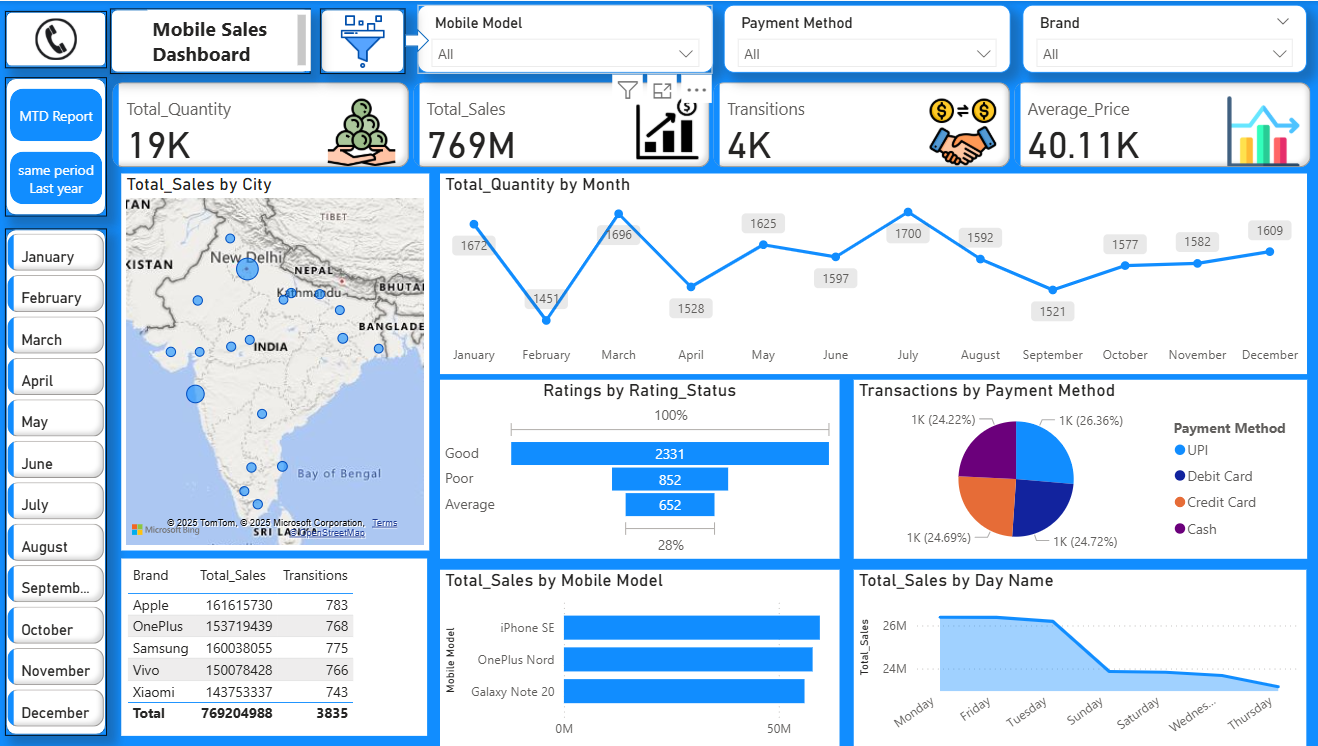

The dashboard page shown, as its layout file describes it:
{"tool":"powerbi","page":{"name":"Dashboard","canvas":[1280,720],"ordinal":0},"visuals":[{"type":"shape","box":[9.6,9.6,98.8,54.9],"z":0},{"type":"shape","box":[9.6,74.1,98.8,134.5],"z":1000},{"type":"shape","box":[9.6,219.6,98.8,489.9],"z":2000},{"type":"advancedSlicerVisual","fields":{"Values":["Custom_Calendar.Date.Variation.Date Hierarchy.Month"]},"box":[7.2,219.6,103.8,489.8],"z":3000},{"type":"cardVisual","fields":{"Data":["Sales_Data.Total_Quantity","Sales_Data.Total_Sales","Sales_Data.Transitions","Sales_Data.Average_Price"]},"box":[108.6,73.6,1169,92.9],"z":4000},{"type":"slicer","fields":{"Values":["Sales_Data.Mobile Model"]},"box":[407.5,4.1,285.4,65.9],"z":5000},{"type":"slicer","fields":{"Values":["Sales_Data.Payment Method"]},"box":[703.9,4.1,277.2,65.9],"z":6000},{"type":"slicer","fields":{"Values":["Sales_Data.Brand"]},"box":[992.1,4.1,274.4,65.9],"z":7000},{"type":"shape","box":[314.2,6.9,82.3,63.1],"z":8000},{"type":"shape","box":[395.2,26.1,23.3,23.3],"z":9000},{"type":"shape","box":[111.1,6.9,193.5,63.1],"z":10000},{"type":"textbox","box":[146.8,8.2,157.8,59],"z":11000},{"type":"map","fields":{"Category":["Sales_Data.City"],"Size":["Sales_Data.Total_Sales"]},"box":[121.9,166.5,296.8,363.1],"z":12000},{"type":"lineChart","fields":{"Category":["Custom_Calendar.Date.Variation.Date Hierarchy.Month"],"Y":["Sales_Data.Total_Quantity"]},"box":[429.5,166,837.1,193.5],"z":13000},{"type":"funnel","title":" Ratings by Rating_Status","fields":{"Y":["CountNonNull(Sales_Data.Customer Ratings)"],"Category":["Sales_Data.Rating_Status"]},"box":[429.5,365,385.6,172.9],"z":14000},{"type":"pieChart","fields":{"Y":["Sales_Data.Transitions"],"Category":["Sales_Data.Payment Method"]},"box":[828.8,365,437.7,172.9],"z":15000},{"type":"clusteredBarChart","fields":{"Y":["Sales_Data.Total_Sales"],"Category":["Sales_Data.Mobile Model"]},"box":[429.5,548.9,385.6,171.5],"z":16000},{"type":"areaChart","fields":{"Y":["Sales_Data.Total_Sales"],"Category":["Custom_Calendar.Day Name"]},"box":[828.8,548.9,436.7,171.3],"z":17000},{"type":"tableEx","fields":{"Values":["Sales_Data.Brand","Sales_Data.Total_Sales","Sales_Data.Transitions"]},"box":[121.9,538.1,295.6,171.3],"z":18000},{"type":"image","box":[32.6,12.1,53.1,49.5],"z":19000},{"type":"pageNavigator","box":[14.5,84.5,89.3,112.2],"z":20000},{"type":"image","box":[313.7,8.4,82,61.5],"z":21000}]}

Visuals, with their boxes in screenshot pixels (x1, y1, x2, y2), scaled from the page's 1280x720 canvas onto the 1318x746 screenshot:
shape: (left=10, top=10, right=112, bottom=67)
shape: (left=10, top=77, right=112, bottom=216)
shape: (left=10, top=228, right=112, bottom=735)
advancedSlicerVisual - Custom_Calendar.Date.Variation.Date Hierarchy.Month: (left=7, top=228, right=114, bottom=735)
cardVisual - Sales_Data.Total_Quantity x Sales_Data.Total_Sales: (left=112, top=76, right=1316, bottom=173)
slicer - Sales_Data.Mobile Model: (left=420, top=4, right=713, bottom=73)
slicer - Sales_Data.Payment Method: (left=725, top=4, right=1010, bottom=73)
slicer - Sales_Data.Brand: (left=1022, top=4, right=1304, bottom=73)
shape: (left=324, top=7, right=408, bottom=73)
shape: (left=407, top=27, right=431, bottom=51)
shape: (left=114, top=7, right=314, bottom=73)
textbox: (left=151, top=8, right=314, bottom=70)
map - Sales_Data.City x Sales_Data.Total_Sales: (left=126, top=173, right=431, bottom=549)
lineChart - Custom_Calendar.Date.Variation.Date Hierarchy.Month x Sales_Data.Total_Quantity: (left=442, top=172, right=1304, bottom=372)
" Ratings by Rating_Status" funnel: (left=442, top=378, right=839, bottom=557)
pieChart - Sales_Data.Transitions x Sales_Data.Payment Method: (left=853, top=378, right=1304, bottom=557)
clusteredBarChart - Sales_Data.Total_Sales x Sales_Data.Mobile Model: (left=442, top=569, right=839, bottom=745)
areaChart - Sales_Data.Total_Sales x Custom_Calendar.Day Name: (left=853, top=569, right=1303, bottom=745)
tableEx - Sales_Data.Brand x Sales_Data.Total_Sales: (left=126, top=558, right=430, bottom=735)
image: (left=34, top=13, right=88, bottom=64)
pageNavigator: (left=15, top=88, right=107, bottom=204)
image: (left=323, top=9, right=407, bottom=72)
